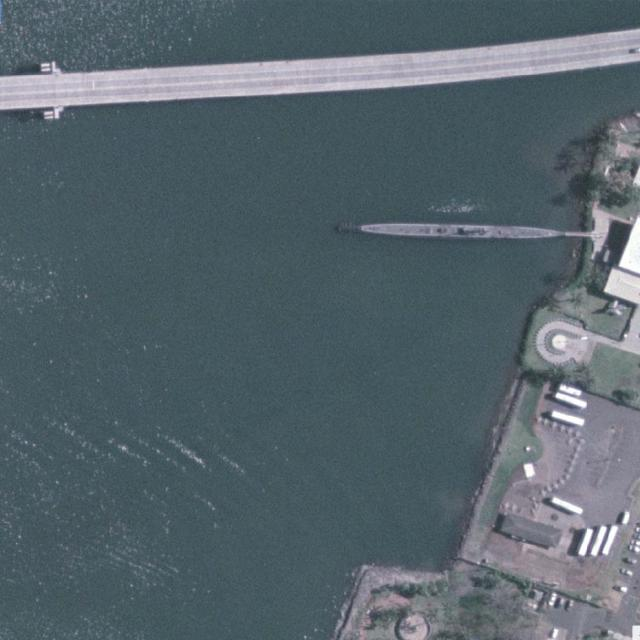Submarine: (357, 220, 564, 242)
